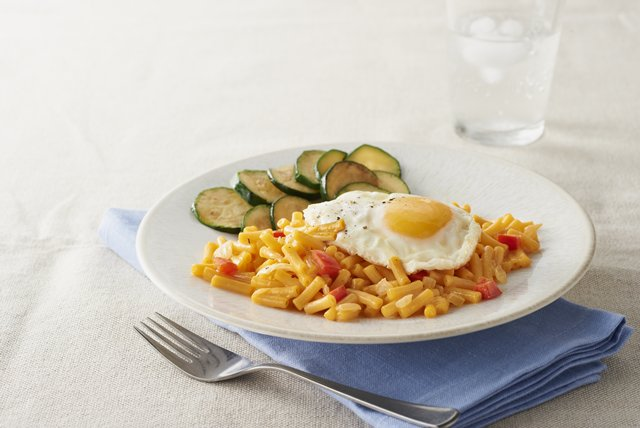fried egg: (324, 191, 485, 268)
glass of water: (443, 2, 564, 144)
plain spaghetti: (230, 235, 321, 310)
